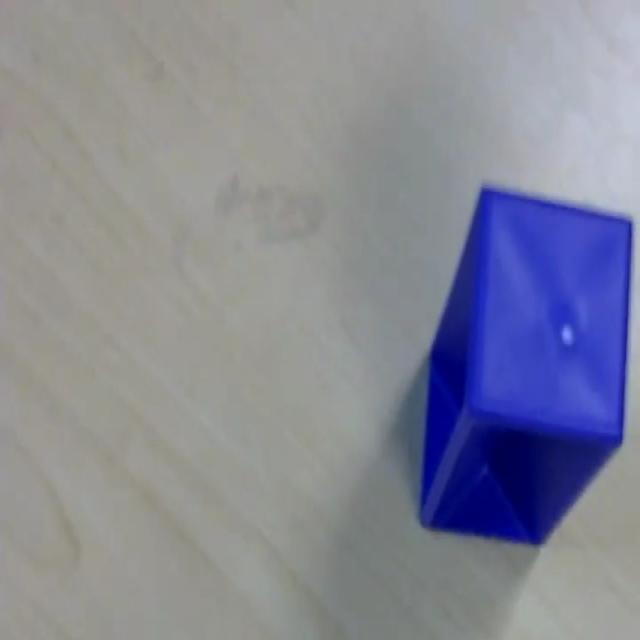blue_block: (417, 181, 633, 547)
